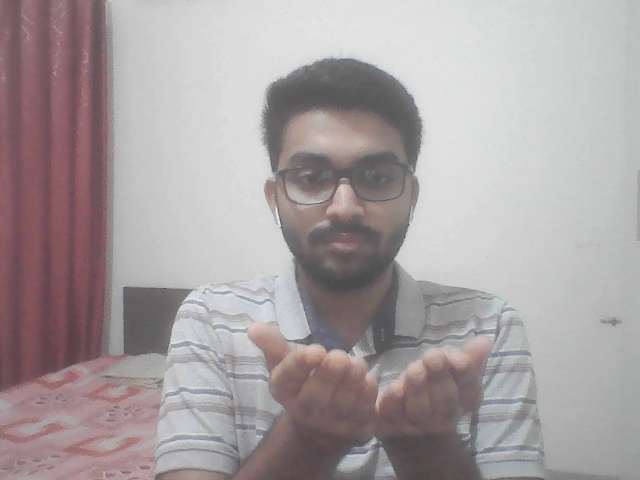book: (214, 303, 523, 463)
